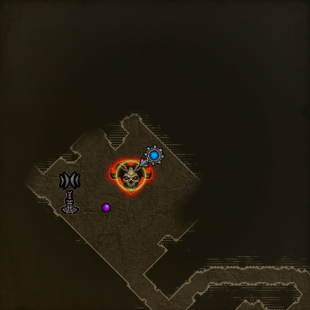Guardian: (107, 159, 154, 195)
